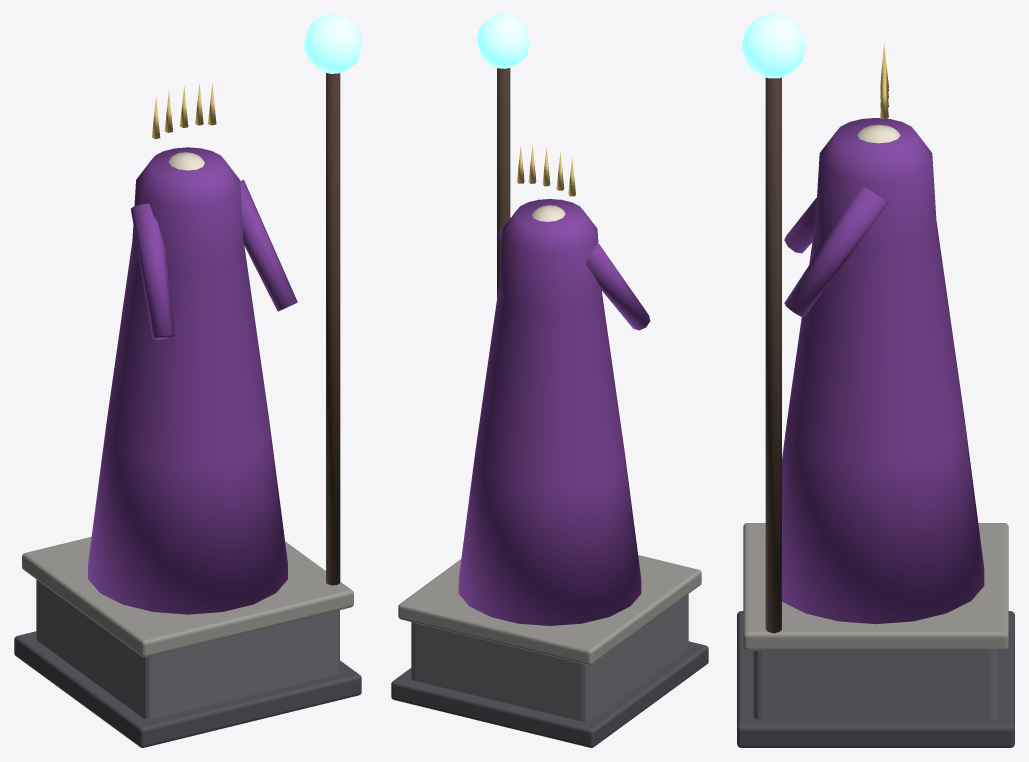
File: statue_lich.glb
3 views of the same model, side by side, from view 1: azimuth 30°, elevation 25°; view 2: azimuth 150°, elevation 25°; view 3: azimuth 270°, elevation 25° (orthographic). The views are drawn at different scales.
Parts seen in each view (by area): view 1: GD_statue_lich__m9, GD_statue_lich__m0, GD_statue_lich__m7, GD_statue_lich__m1, GD_statue_lich__m8, GD_statue_lich__m3, GD_statue_lich__m6; view 2: GD_statue_lich__m9, GD_statue_lich__m0, GD_statue_lich__m7, GD_statue_lich__m1, GD_statue_lich__m8, GD_statue_lich__m3, GD_statue_lich__m6; view 3: GD_statue_lich__m9, GD_statue_lich__m0, GD_statue_lich__m7, GD_statue_lich__m1, GD_statue_lich__m8, GD_statue_lich__m3, GD_statue_lich__m4, GD_statue_lich__m6.
Boxes of the visible parts, x1,y1,x2,y2 form: GD_statue_lich__m9: (88,147,297,614); GD_statue_lich__m0: (36,579,339,719); GD_statue_lich__m7: (22,537,353,657); GD_statue_lich__m1: (14,631,361,747); GD_statue_lich__m8: (326,73,340,585); GD_statue_lich__m3: (303,14,362,73); GD_statue_lich__m6: (151,83,216,139); GD_statue_lich__m9: (458,199,650,625); GD_statue_lich__m0: (411,594,688,721); GD_statue_lich__m7: (398,555,701,665); GD_statue_lich__m1: (391,641,708,747); GD_statue_lich__m8: (497,68,510,297); GD_statue_lich__m3: (476,14,530,68); GD_statue_lich__m6: (517,145,575,196); GD_statue_lich__m9: (782,118,984,624); GD_statue_lich__m0: (753,651,998,720); GD_statue_lich__m7: (743,523,1008,650); GD_statue_lich__m1: (737,611,1014,747); GD_statue_lich__m8: (765,77,781,633); GD_statue_lich__m3: (741,14,806,78); GD_statue_lich__m4: (857,124,900,143); GD_statue_lich__m6: (880,43,888,119).
Bounding box in the file's own units: 0.7161 × 1.96 × 0.68.
